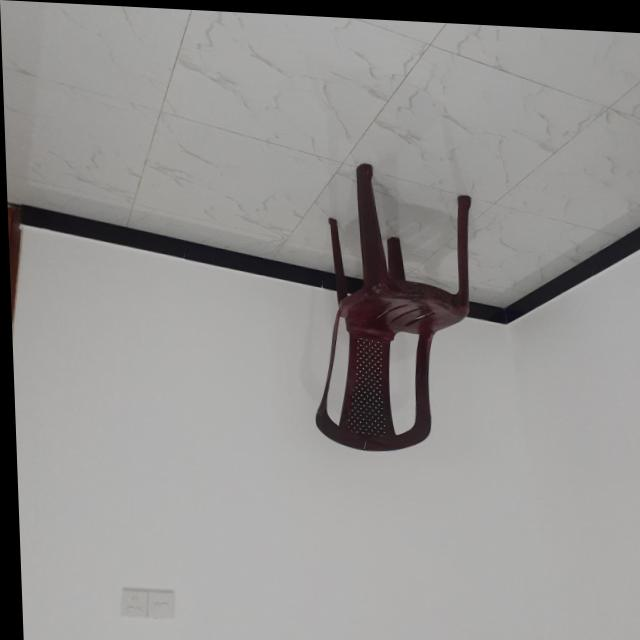Chair: (304, 158, 480, 453)
